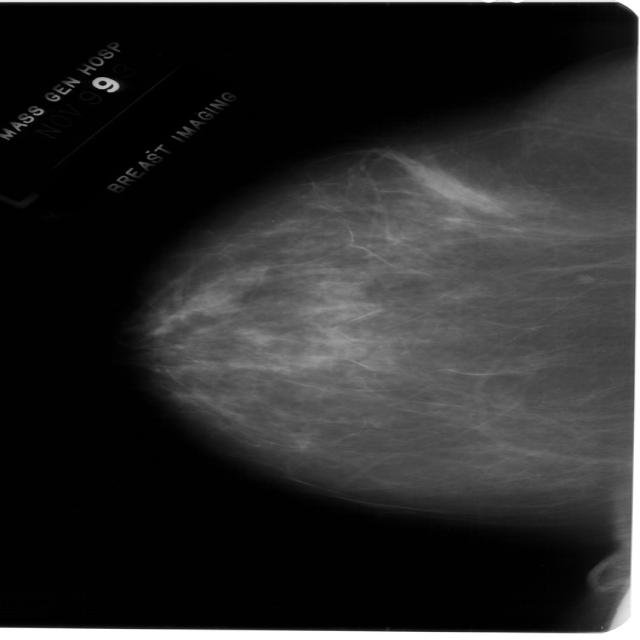tumour: (182, 286, 236, 312)
